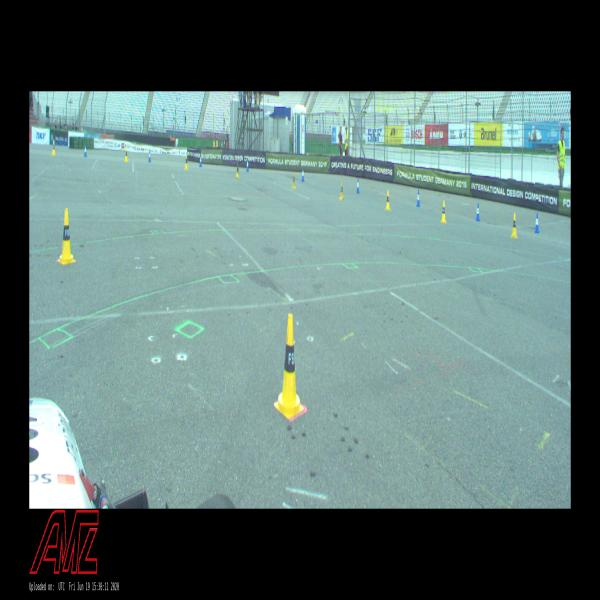blue_cone: (534, 212, 540, 234), (416, 190, 421, 207), (476, 204, 480, 221), (148, 150, 152, 162), (357, 179, 360, 193), (84, 144, 87, 157), (199, 155, 202, 167), (246, 160, 249, 171), (302, 167, 304, 181)
yellow_cone: (274, 314, 304, 419), (58, 208, 75, 264), (511, 213, 518, 238), (439, 201, 446, 222), (386, 190, 390, 210), (184, 154, 189, 170), (235, 163, 240, 178), (340, 182, 344, 200), (292, 172, 296, 189), (52, 140, 56, 155), (125, 146, 128, 162)
